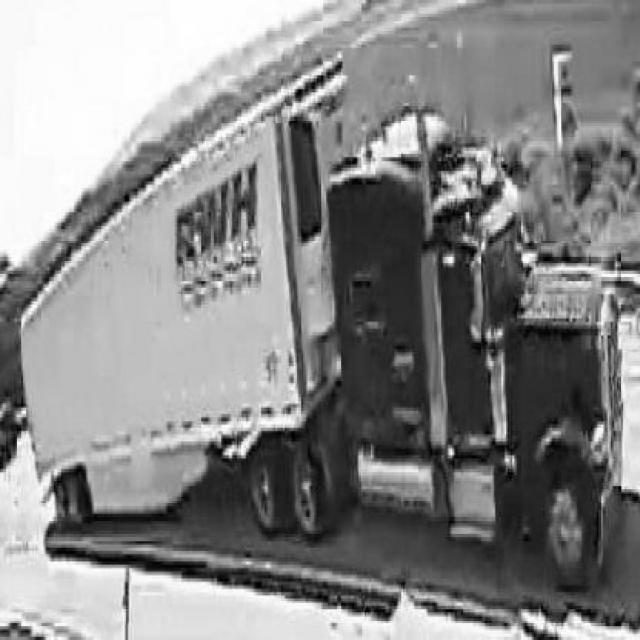Box Truck: (18, 57, 621, 593)
